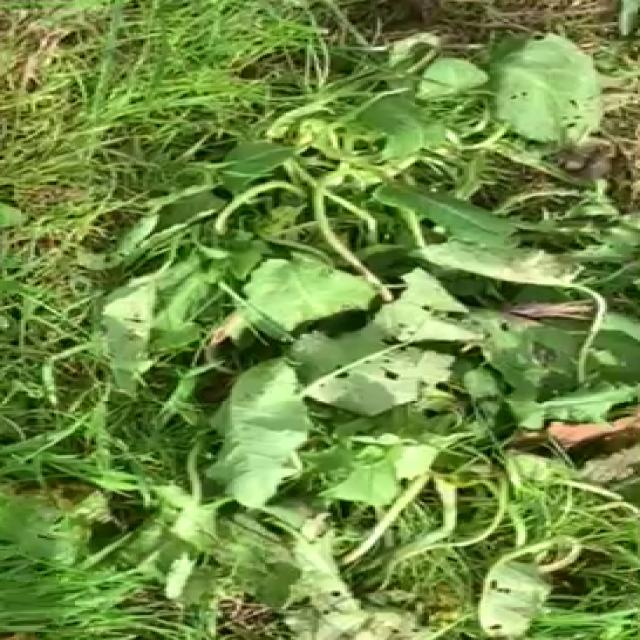organic waste: (103, 22, 640, 342), (133, 277, 640, 591)
